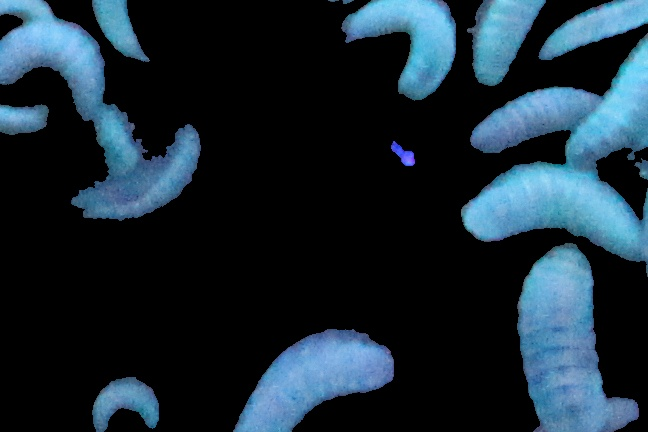larvae: (225, 326, 396, 432), (458, 165, 644, 258), (513, 245, 604, 432), (70, 126, 201, 229), (338, 1, 458, 108), (1, 20, 114, 124), (470, 90, 610, 162), (568, 37, 647, 162), (470, 1, 578, 87), (93, 1, 201, 61), (542, 1, 648, 60), (85, 373, 166, 432)
